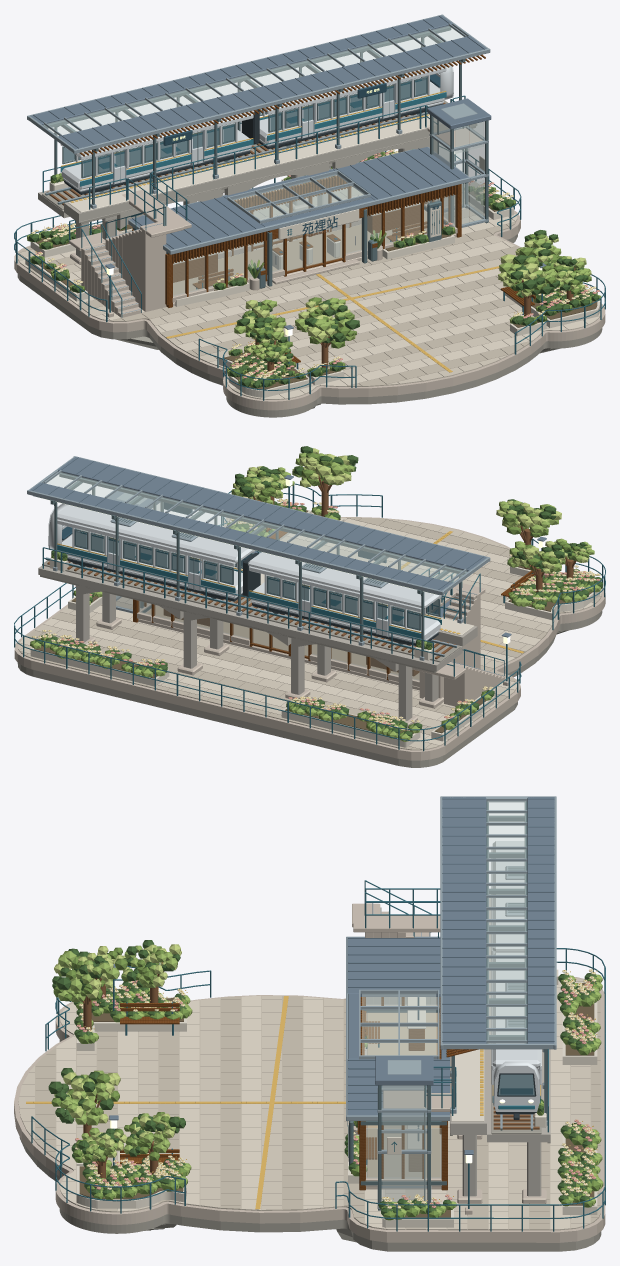
The model's file is transport-station-v9-game-candidate.glb.
The picture shows the model from 3 angles, top to bottom: view 1: azimuth 30°, elevation 25°; view 2: azimuth 150°, elevation 25°; view 3: azimuth 270°, elevation 25°; orthographic projection. The views are drawn at different scales.
Parts seen in each view (by area): view 1: Paving_paverC, Canopy_roof, Paving_paverA, Paving_paverB, Hall_glass, VerticalCirculation_stone, Hall_roof, Terrain_stone, Gardens_leafDark, Viaduct_concrete, Canopy_glass, Hall_wood (+46 smaller); view 2: Canopy_roof, Viaduct_concrete, Paving_paverA, Paving_paverC, Paving_paverB, Terrain_stone, TrainRollingStock_trainWhite.002, TrainRollingStock_trainWhite.001, Canopy_glass, Gardens_leafLight, Gardens_leafDark, Canopy_roofEdge (+39 smaller); view 3: Paving_paverB, Paving_paverC, Paving_paverA, Canopy_roof, Terrain_stone, Gardens_leafDark, Hall_roof, Canopy_glass, Gardens_leaf, Gardens_leafLight, Canopy_roofEdge, Terrain_shadowStone (+36 smaller).
Part boxes in pixels (x1,y1,x2,y2): Paving_paverC: [18, 183, 600, 399]; Canopy_roof: [30, 15, 486, 149]; Paving_paverA: [18, 188, 600, 398]; Paving_paverB: [19, 182, 599, 399]; Hall_glass: [173, 174, 455, 296]; VerticalCirculation_stone: [69, 124, 482, 317]; Hall_roof: [130, 147, 468, 249]; Terrain_stone: [14, 180, 605, 410]; Gardens_leafDark: [29, 152, 599, 388]; Viaduct_concrete: [38, 114, 476, 257]; Canopy_glass: [43, 25, 463, 136]; Hall_wood: [132, 175, 461, 307]; Canopy_roof: [30, 457, 487, 590]; Viaduct_concrete: [38, 565, 477, 720]; Paving_paverA: [18, 519, 601, 749]; Paving_paverC: [18, 517, 601, 750]; Paving_paverB: [20, 517, 593, 745]; Terrain_stone: [14, 512, 605, 760]; TrainRollingStock_trainWhite.002: [57, 505, 254, 598]; TrainRollingStock_trainWhite.001: [248, 552, 441, 642]; Canopy_glass: [46, 472, 467, 582]; Gardens_leafLight: [32, 452, 600, 741]; Gardens_leafDark: [35, 446, 603, 737]; Canopy_roofEdge: [27, 456, 490, 660]; Paving_paverB: [56, 980, 570, 1229]; Paving_paverC: [18, 991, 600, 1230]; Paving_paverA: [18, 978, 590, 1229]; Canopy_roof: [442, 797, 554, 1043]; Terrain_stone: [14, 976, 605, 1242]; Gardens_leafDark: [48, 940, 597, 1216]; Hall_roof: [347, 937, 449, 1115]; Canopy_glass: [487, 801, 526, 1043]; Gardens_leaf: [51, 946, 600, 1220]; Gardens_leafLight: [54, 945, 603, 1217]; Canopy_roofEdge: [440, 796, 556, 1125]; Terrain_shadowStone: [19, 1039, 601, 1251].
Bounding box in the file's own units: 20.38 × 8.4 × 19.84.
Materials: 33 (2 with a texture image).
